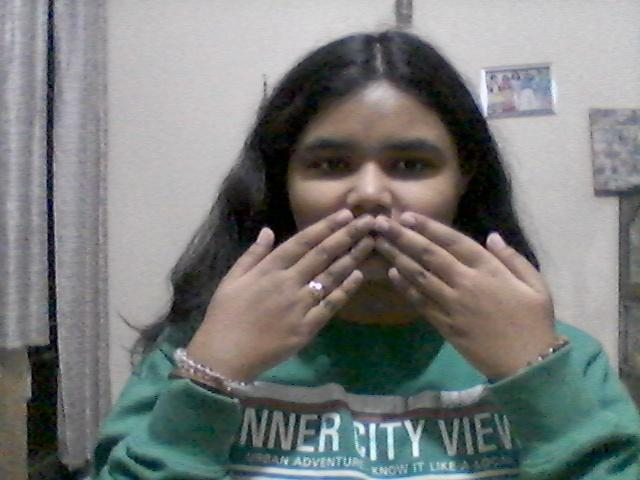thank you: (171, 201, 565, 418)
